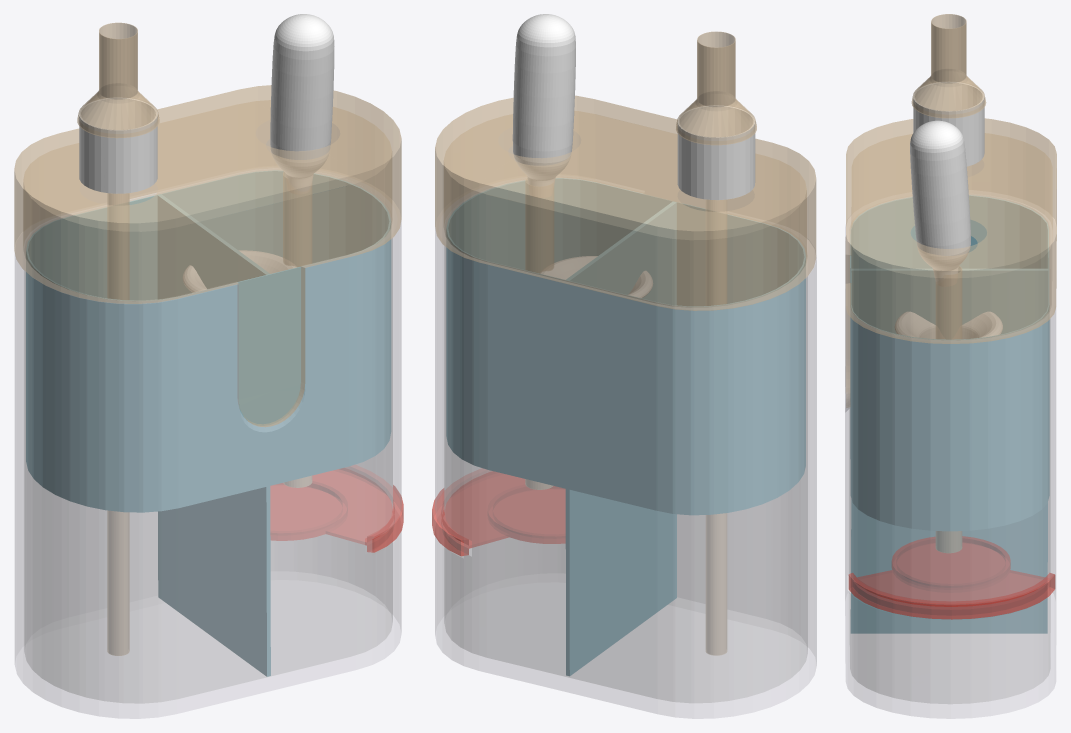
The model's file is Bottle3.glb.
3 renders of one model, left to right at view 1: azimuth 30°, elevation 25°; view 2: azimuth 150°, elevation 25°; view 3: azimuth 270°, elevation 25°, orthographic. The views are drawn at different scales.
Visible parts, largest first — view 1: Outter, OutterInner, Inner, Upper, Can, Card, MentalTubes, Straws, StrawDown, CanStrawDown, CanOppener; view 2: Outter, OutterInner, Inner, Upper, Can, Card, MentalTubes, Straws, StrawDown, CanStrawDown, CanOppener; view 3: Inner, Outter, OutterInner, Upper, Card, Can, Straws, MentalTubes, CanStrawDown, CanOppener.
Boxes of the visible parts, left/top/right/bottom form: Outter: left=15, top=193, right=401, bottom=718; OutterInner: left=24, top=194, right=392, bottom=703; Inner: left=26, top=170, right=391, bottom=676; Upper: left=14, top=85, right=401, bottom=427; Can: left=270, top=14, right=334, bottom=193; Card: left=270, top=465, right=403, bottom=552; MentalTubes: left=79, top=97, right=157, bottom=193; Straws: left=77, top=22, right=159, bottom=138; StrawDown: left=107, top=193, right=129, bottom=655; CanStrawDown: left=283, top=172, right=311, bottom=487; CanOppener: left=183, top=250, right=296, bottom=292; Outter: left=435, top=215, right=816, bottom=718; OutterInner: left=444, top=246, right=807, bottom=702; Inner: left=446, top=178, right=805, bottom=676; Upper: left=435, top=95, right=816, bottom=310; Can: left=512, top=14, right=575, bottom=186; Card: left=432, top=469, right=565, bottom=556; MentalTubes: left=677, top=105, right=755, bottom=200; Straws: left=676, top=31, right=756, bottom=145; StrawDown: left=706, top=199, right=726, bottom=655; CanStrawDown: left=525, top=179, right=553, bottom=489; CanOppener: left=540, top=256, right=652, bottom=297; Inner: left=850, top=195, right=1049, bottom=633; Outter: left=845, top=216, right=1055, bottom=718; OutterInner: left=849, top=317, right=1050, bottom=703; Upper: left=845, top=118, right=1056, bottom=407; Card: left=848, top=536, right=1055, bottom=619; Can: left=910, top=120, right=970, bottom=283; Straws: left=911, top=14, right=986, bottom=118; MentalTubes: left=913, top=82, right=984, bottom=166; CanStrawDown: left=936, top=266, right=961, bottom=552; CanOppener: left=895, top=312, right=1002, bottom=338.
Size of the model in its own units: 4.41 by 7.65 by 2.53.
